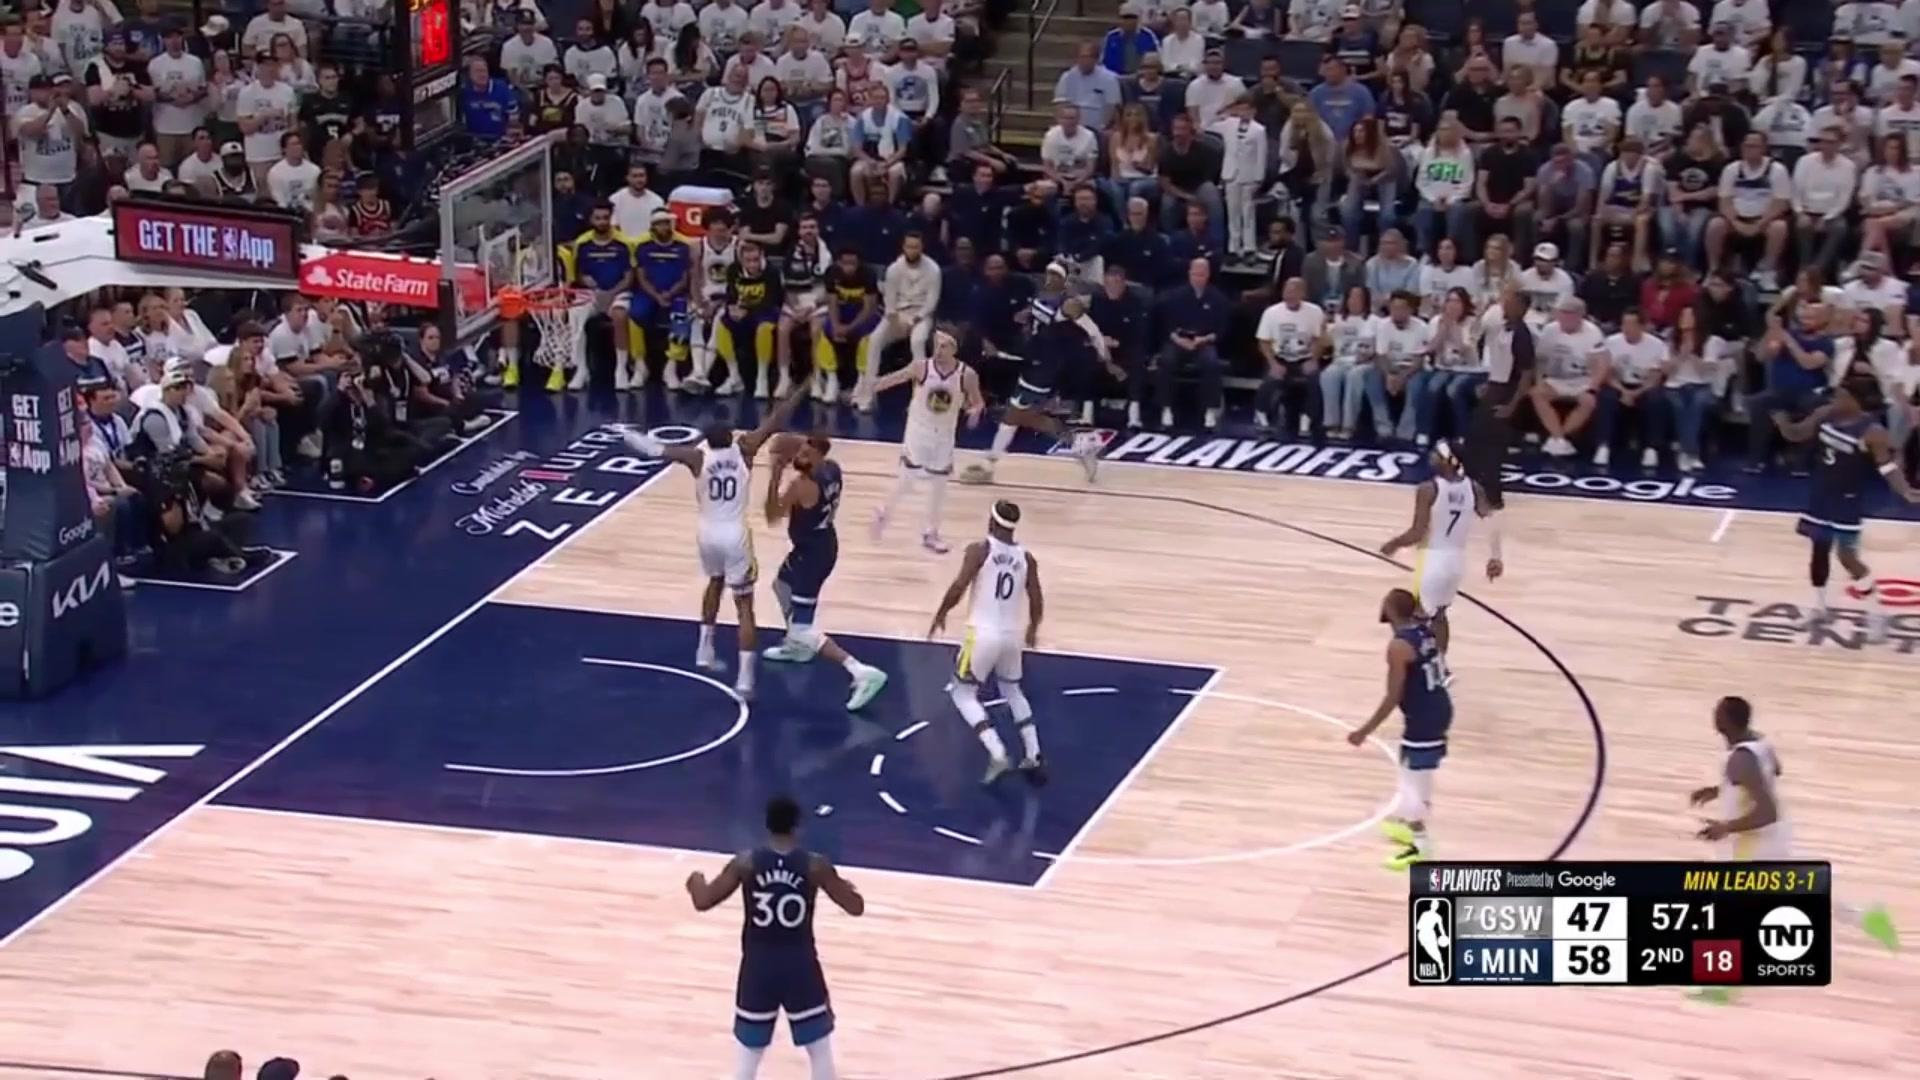no_foul: (674, 418, 880, 695)
